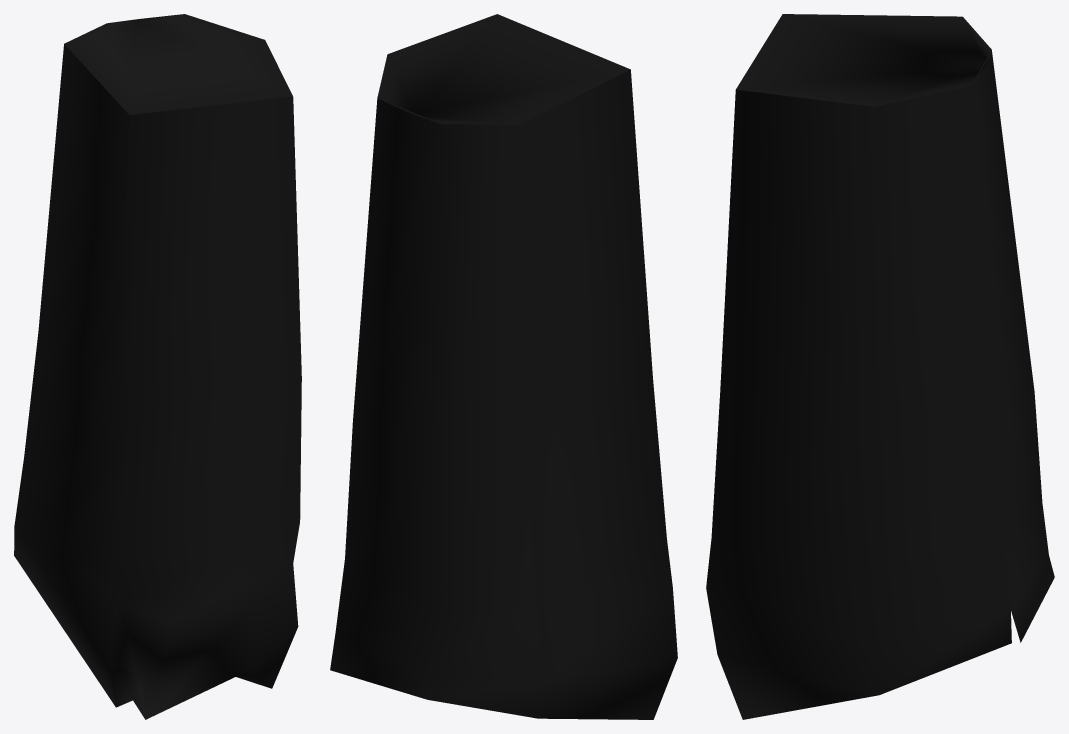
Rendered from left_forearm.glb.
3 renders of one model, left to right at view 1: azimuth 30°, elevation 25°; view 2: azimuth 150°, elevation 25°; view 3: azimuth 270°, elevation 25°, orthographic. The views are drawn at different scales.
Visible parts, largest first — view 1: sweater-black_LEFT_FOREARM; view 2: sweater-black_LEFT_FOREARM; view 3: sweater-black_LEFT_FOREARM.
Boxes of the visible parts, x1,y1,x2,y2 form: sweater-black_LEFT_FOREARM: (14,14,301,719); sweater-black_LEFT_FOREARM: (330,14,677,719); sweater-black_LEFT_FOREARM: (706,14,1054,719).
Bounding box in the file's own units: 0.1163 × 0.289 × 0.1398.
Materials: 1 (1 with a texture image).
